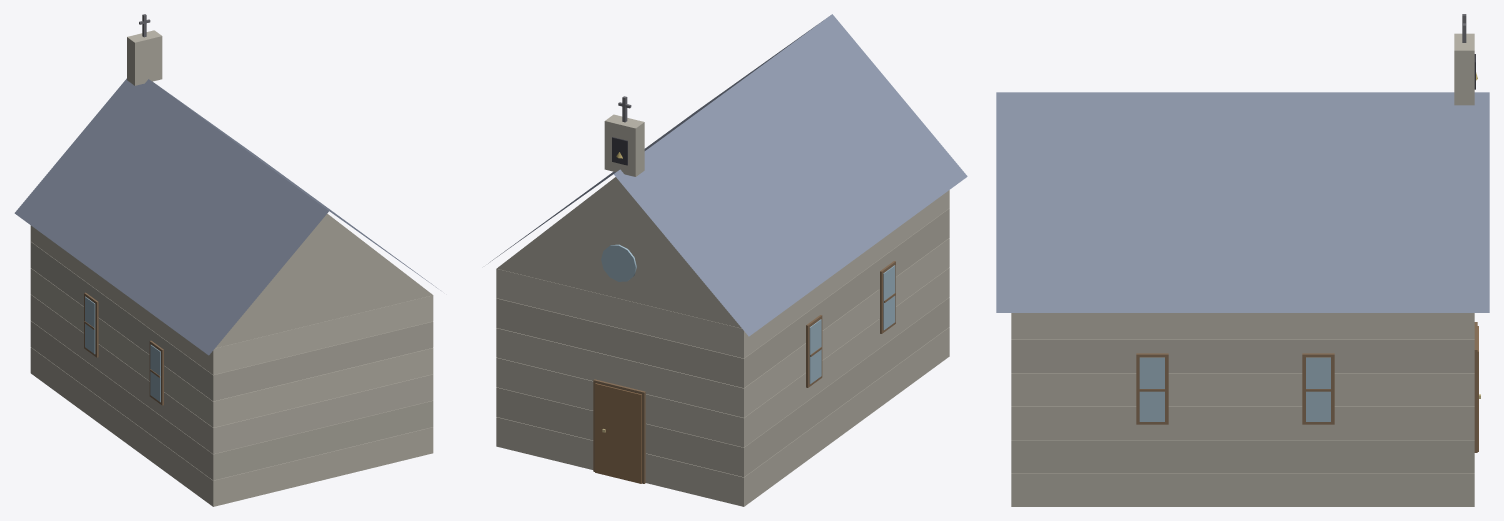
File: chapel.glb
The picture shows the model from 3 angles, left to right: view 1: azimuth 30°, elevation 25°; view 2: azimuth 150°, elevation 25°; view 3: azimuth 270°, elevation 25°; orthographic projection. The views are drawn at different scales.
Visible parts, largest first — view 1: chapel; view 2: chapel; view 3: chapel.
Part boxes in pixels (x1,y1,x2,y2): chapel: [14, 14, 440, 506]; chapel: [488, 14, 967, 506]; chapel: [996, 14, 1489, 506].
Size of the model in its own units: 7 by 9.3 by 9.8.
